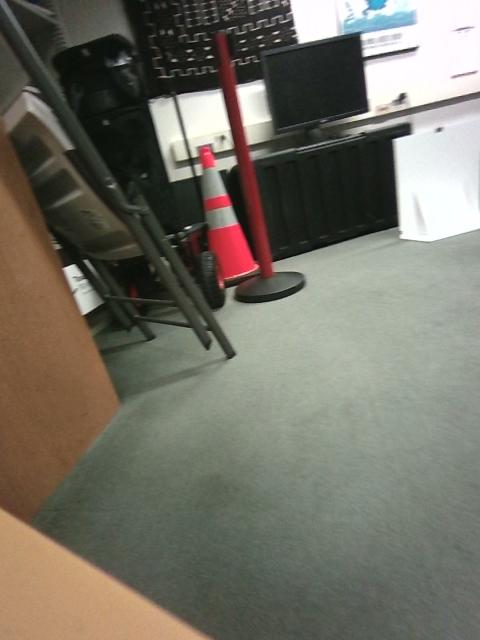block: (217, 326, 257, 369)
